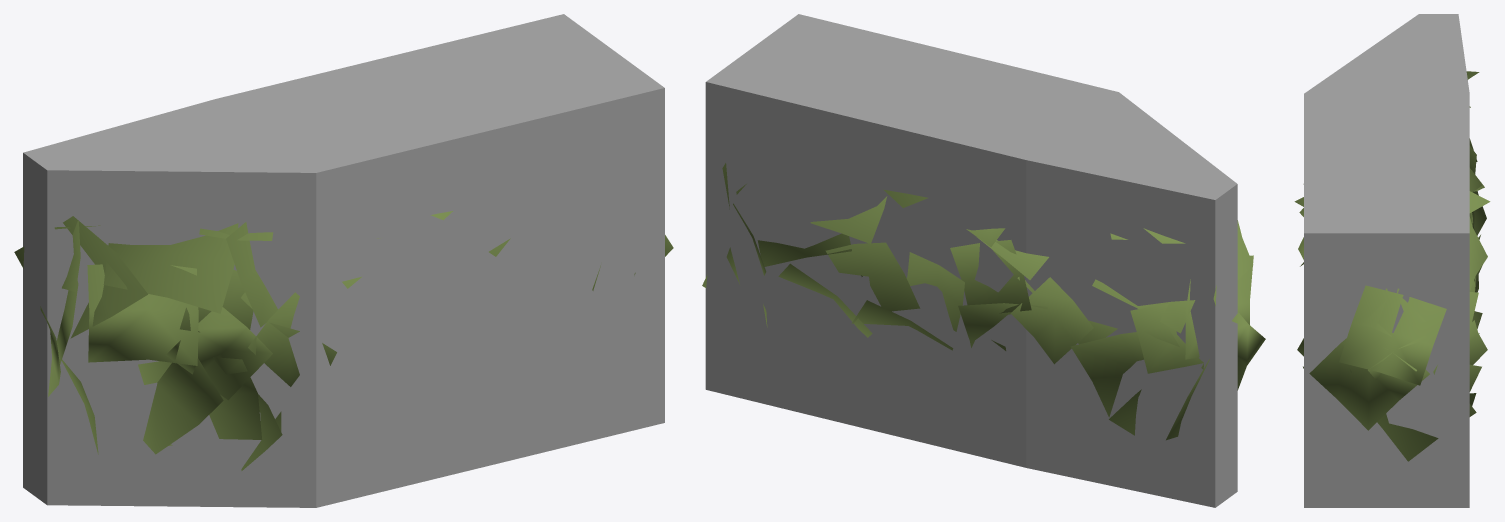
Rendered from BushCurve02.fbx.
The picture shows the model from 3 angles, left to right: view 1: azimuth 30°, elevation 25°; view 2: azimuth 150°, elevation 25°; view 3: azimuth 270°, elevation 25°; orthographic projection. The views are drawn at different scales.
Parts seen in each view (by area): view 1: BushCornerColider, BushCorner; view 2: BushCornerColider, BushCorner; view 3: BushCornerColider, BushCorner.
Part boxes in pixels (x1,y1,x2,y2): BushCornerColider: (23,14,664,507); BushCorner: (14,211,673,470); BushCornerColider: (705,14,1237,507); BushCorner: (702,163,1265,440); BushCornerColider: (1304,14,1469,507); BushCorner: (1294,71,1490,461).
Bounding box in the file's own units: 7.35 × 4.09 × 2.65.
